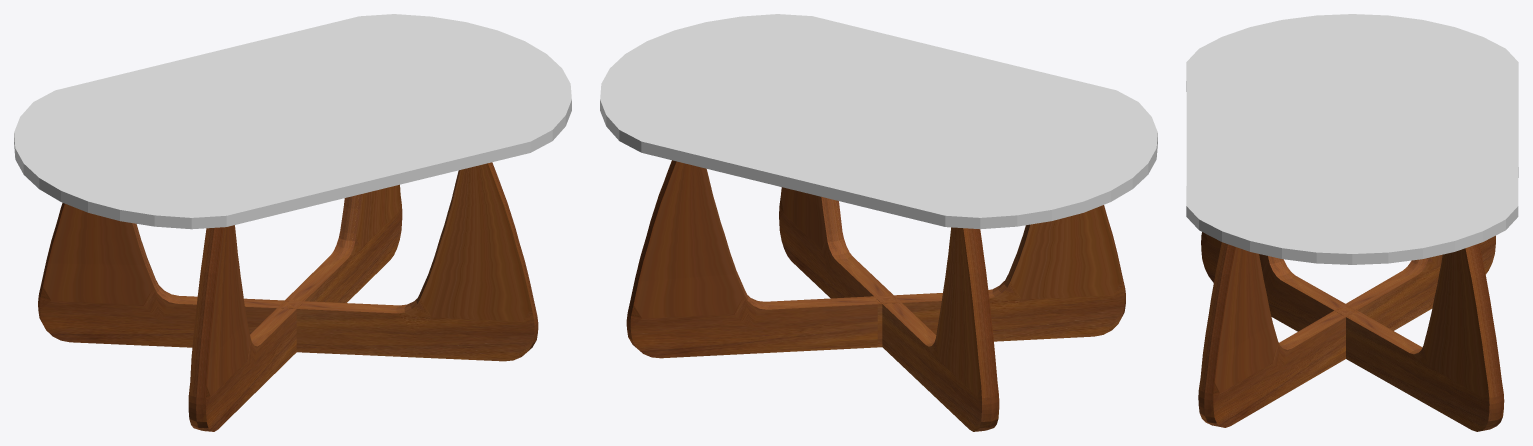
Rendered from ND-0844__Michi_Noriaki.glb.
3 renders of one model, left to right at view 1: azimuth 30°, elevation 25°; view 2: azimuth 150°, elevation 25°; view 3: azimuth 270°, elevation 25°, orthographic. The views are drawn at different scales.
Visible parts, largest first — view 1: Cylinder, Cube.003, Cube.001, Cube.002, Cube.004; view 2: Cylinder, Cube.004, Cube.002, Cube.001, Cube.003; view 3: Cylinder, Cube.004, Cube.003, Cube.001, Cube.002.
Part boxes in pixels (x1=…): Cylinder: x1=14, y1=14, x2=571, y2=229; Cube.003: x1=287, y1=162, x2=538, y2=361; Cube.001: x1=38, y1=203, x2=288, y2=347; Cube.002: x1=188, y1=225, x2=303, y2=431; Cube.004: x1=287, y1=184, x2=402, y2=302; Cylinder: x1=600, y1=14, x2=1157, y2=229; Cube.004: x1=626, y1=160, x2=877, y2=358; Cube.002: x1=875, y1=205, x2=1125, y2=347; Cube.001: x1=881, y1=227, x2=999, y2=431; Cube.003: x1=779, y1=187, x2=897, y2=302; Cylinder: x1=1186, y1=14, x2=1518, y2=264; Cube.004: x1=1346, y1=243, x2=1504, y2=431; Cube.003: x1=1198, y1=242, x2=1354, y2=427; Cube.001: x1=1340, y1=235, x2=1495, y2=330; Cube.002: x1=1201, y1=232, x2=1359, y2=331.
Bounding box in the file's own units: 3.08 × 1.32 × 1.8.
Materials: 5 (4 with a texture image).
